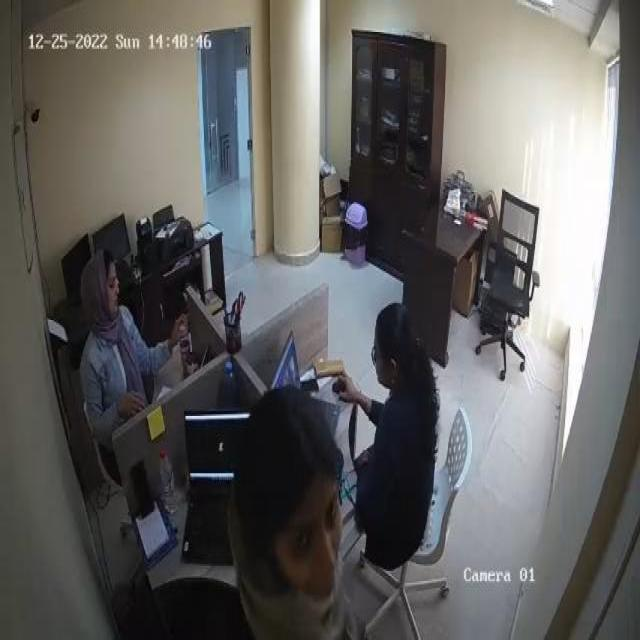bare_hand: (328, 360, 375, 431), (110, 382, 149, 429), (158, 313, 194, 357)
